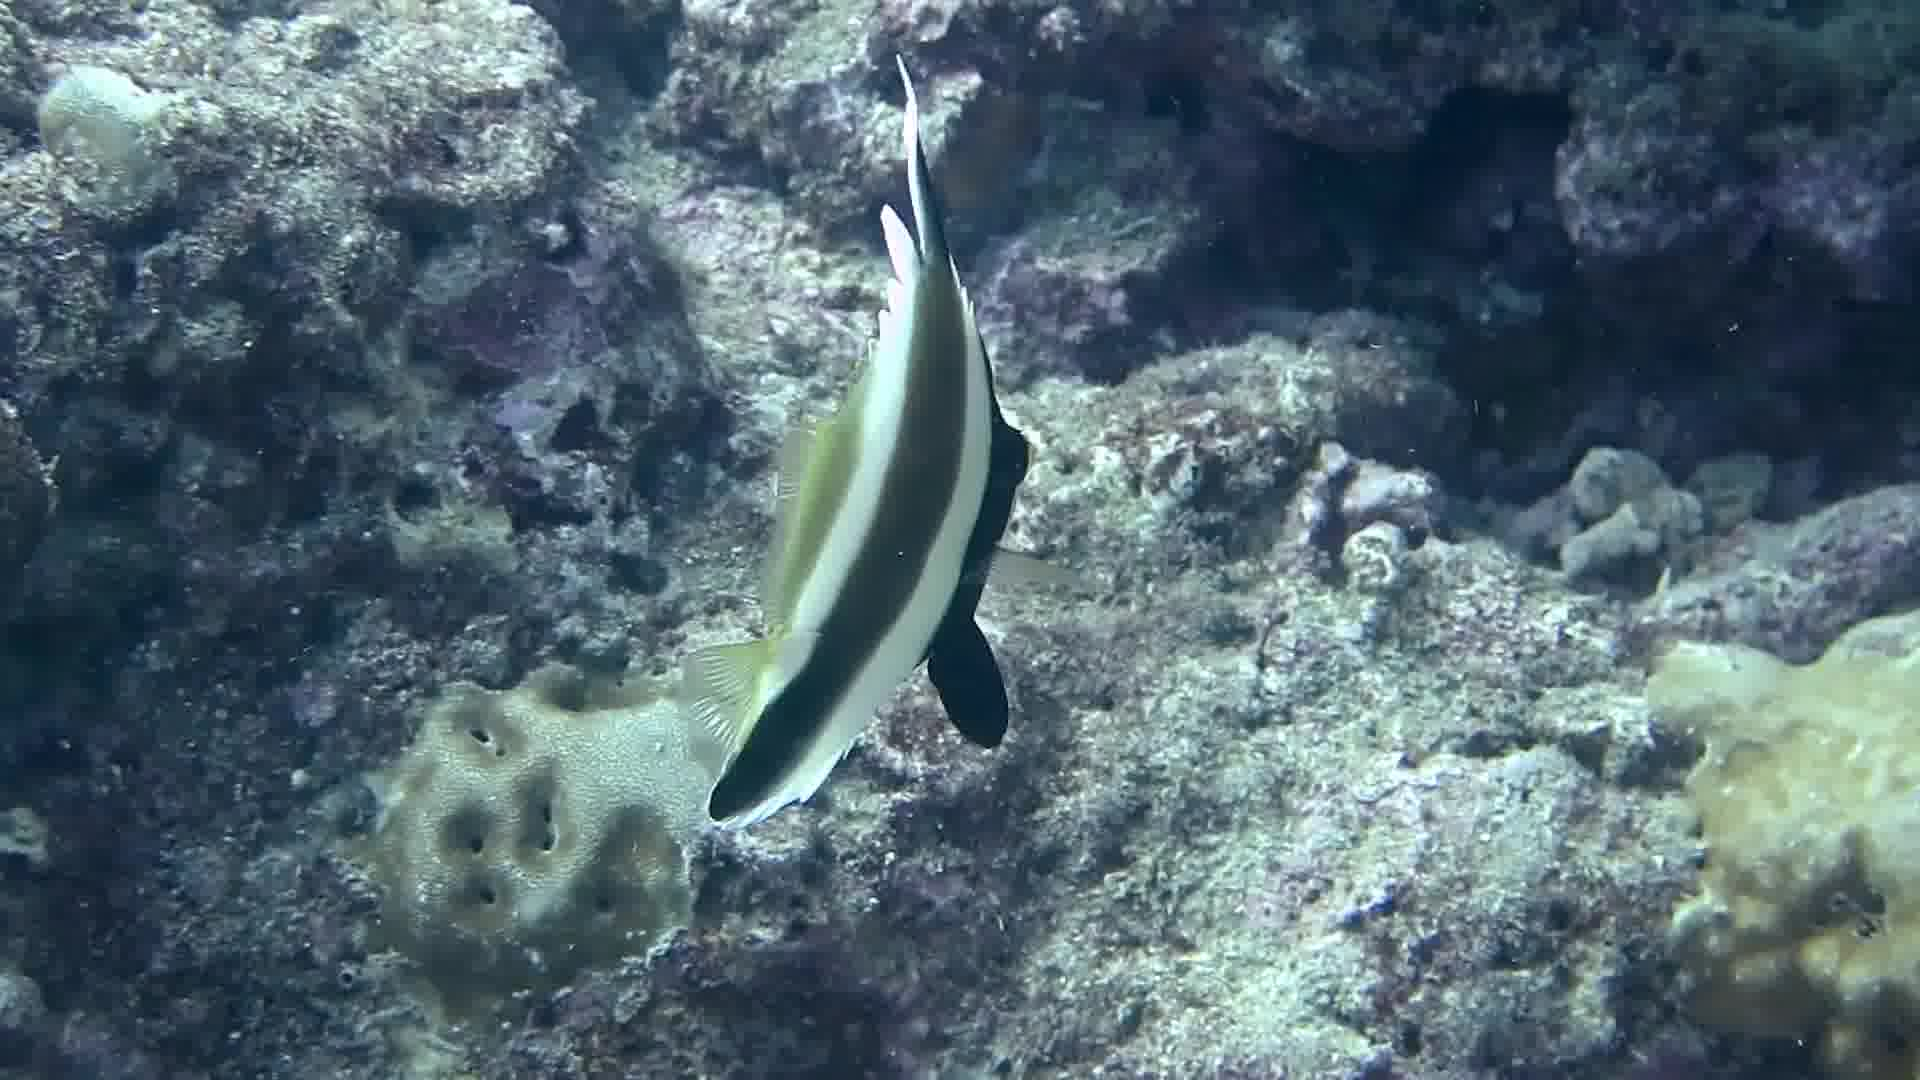Heniochus chrysostomus: (498, 99, 1300, 843)
